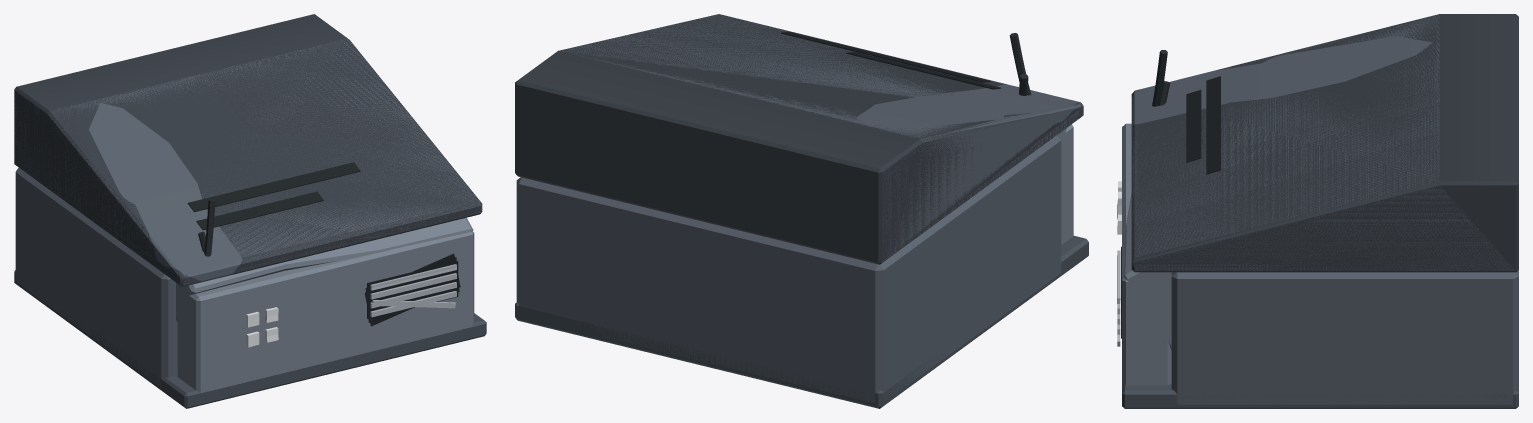
The model's file is shr_cmp_control_module_b.glb.
3 views of the same model, side by side, from view 1: azimuth 30°, elevation 25°; view 2: azimuth 150°, elevation 25°; view 3: azimuth 270°, elevation 25° (orthographic). The views are drawn at different scales.
Parts seen in each view (by area): view 1: mesh_heavy, mesh_intact, mesh_light; view 2: mesh_heavy, mesh_intact; view 3: mesh_heavy, mesh_intact.
Part boxes in pixels (x1=…): mesh_heavy: x1=14, y1=14, x2=486, y2=408; mesh_intact: x1=14, y1=38, x2=480, y2=393; mesh_light: x1=246, y1=257, x2=459, y2=347; mesh_heavy: x1=515, y1=14, x2=1088, y2=408; mesh_intact: x1=559, y1=14, x2=1083, y2=261; mesh_heavy: x1=1117, y1=14, x2=1518, y2=408; mesh_intact: x1=1117, y1=14, x2=1514, y2=385.
Bounding box in the file's own units: 0.8 × 0.5 × 0.7998.
